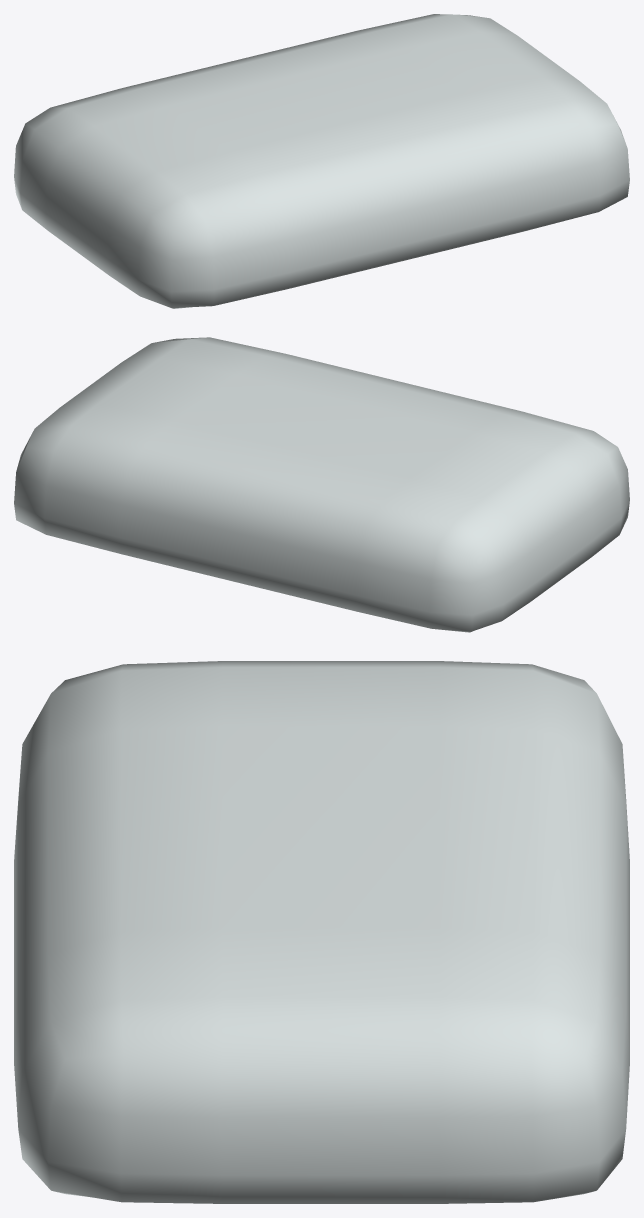
The model's file is prefab_snow_002.fbx.
The picture shows the model from 3 angles, top to bottom: view 1: azimuth 30°, elevation 25°; view 2: azimuth 150°, elevation 25°; view 3: azimuth 270°, elevation 25°; orthographic projection. The views are drawn at different scales.
Parts seen in each view (by area): view 1: prefab_snow_002; view 2: prefab_snow_002; view 3: prefab_snow_002.
Part boxes in pixels (x1=…): prefab_snow_002: x1=14, y1=14, x2=629, y2=308; prefab_snow_002: x1=14, y1=337, x2=629, y2=632; prefab_snow_002: x1=14, y1=661, x2=629, y2=1203.
Bounding box in the file's own units: 80.23 × 15.79 × 50.03.
